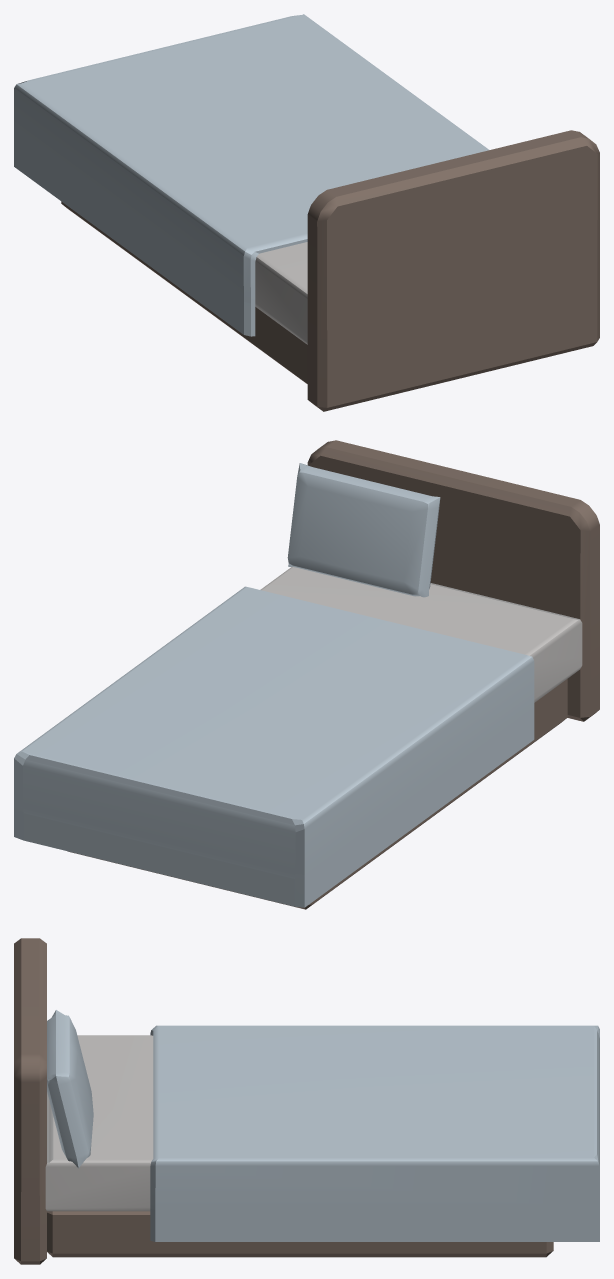
Rendered from bedtaek2.fbx.
3 views of the same model, one above another, from view 1: azimuth 30°, elevation 25°; view 2: azimuth 150°, elevation 25°; view 3: azimuth 270°, elevation 25° (orthographic). The views are drawn at different scales.
Visible parts, largest first — view 1: bed; view 2: bed, pillow; view 3: bed, pillow.
Boxes of the visible parts, x1,y1,x2,y2 form: bed: [14, 14, 599, 411]; bed: [14, 440, 599, 909]; pillow: [287, 463, 440, 597]; bed: [14, 938, 599, 1264]; pillow: [47, 1010, 93, 1168].
Size of the model in its own units: 9.83 by 6.85 by 17.76.
